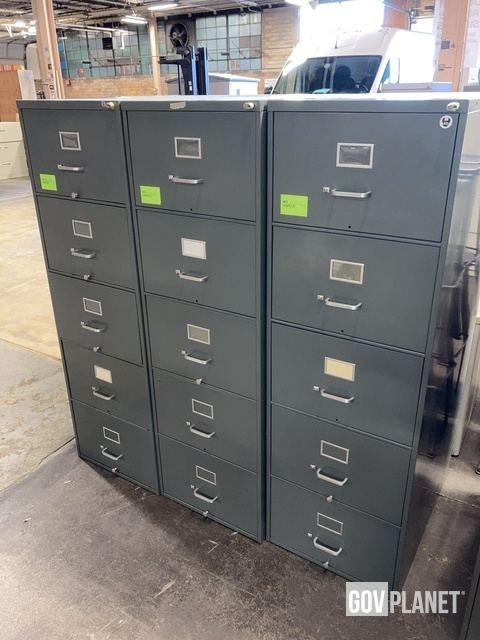Filing Cabinet: (265, 97, 469, 593), (119, 99, 262, 542), (15, 98, 160, 495)
